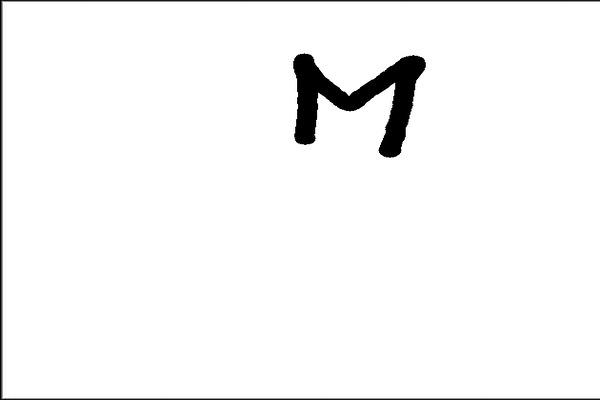M: (291, 50, 427, 161)
